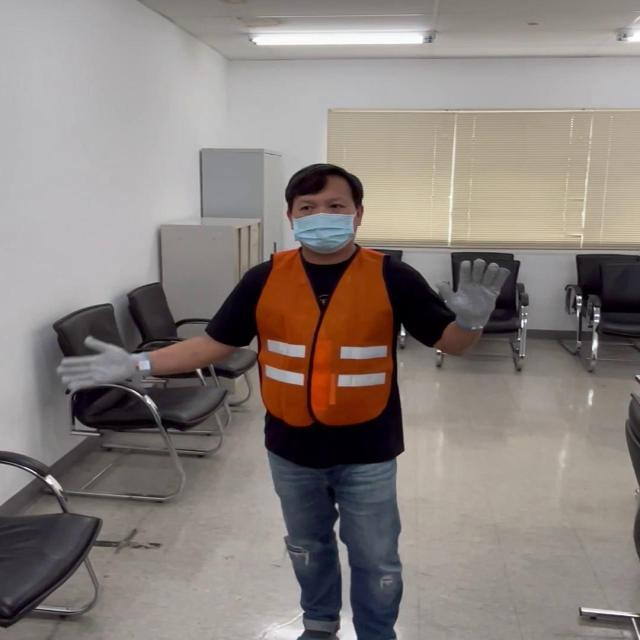gloved_hand: (437, 254, 504, 324), (61, 332, 135, 390)
